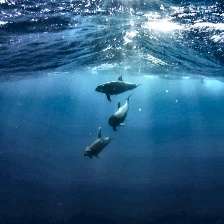dolphin: (83, 126, 113, 159), (95, 81, 139, 103), (108, 99, 130, 132)
